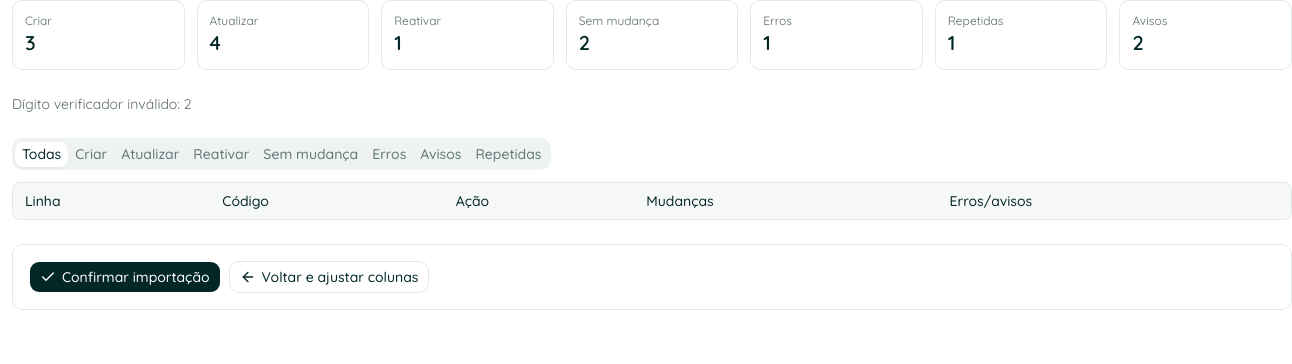
Test: SimulationStep › resposta atrasada de um filtro anterior não sobrescreve a atual
The image size is (1292, 364).
What coordinates should you click on to do the following:
click the tab "Erros"
I would click on:
 (389, 154)
Its box is x1=365 y1=142 x2=413 y2=166.
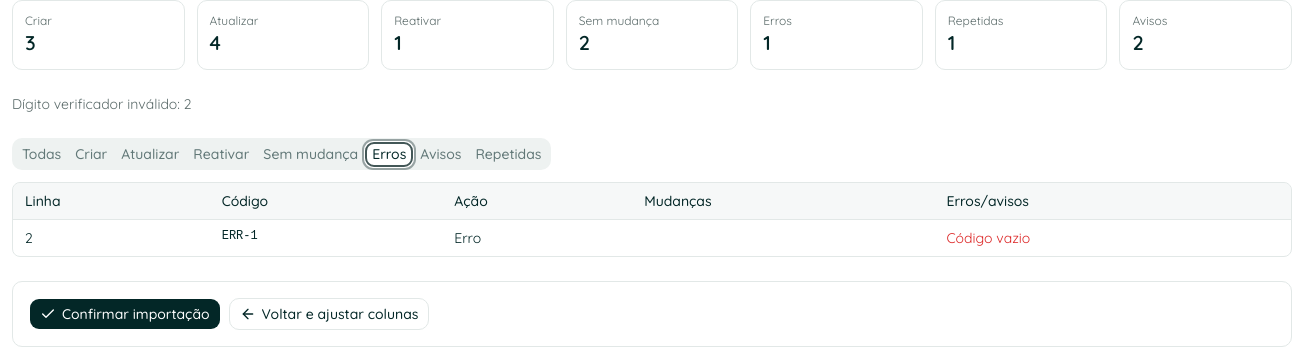
Now the text "ERR-1" is shown, box x1=210 y1=220 x2=442 y2=256
